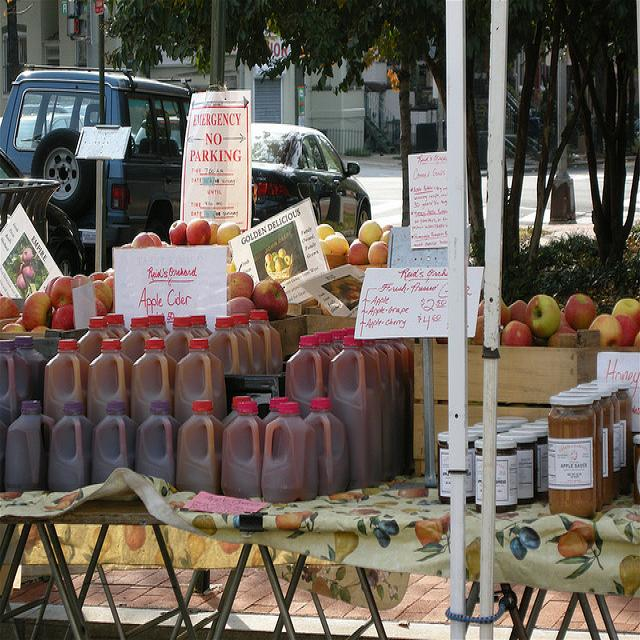Vehicle: (0, 68, 191, 265), (251, 122, 373, 238)
